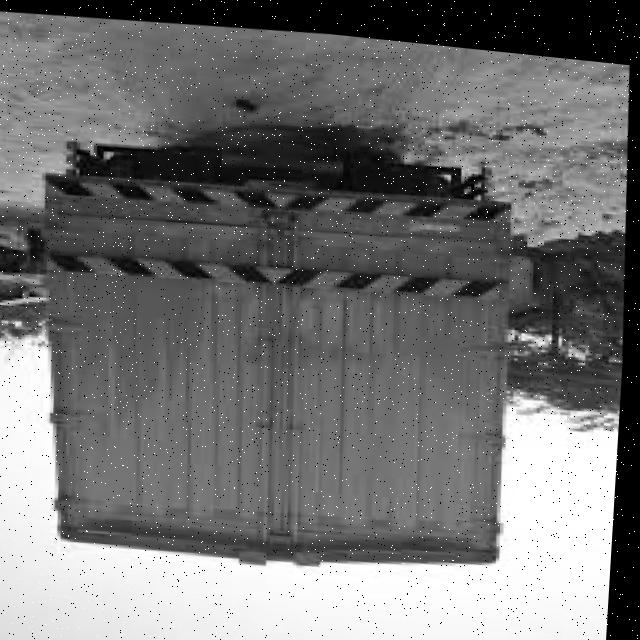truck: (1, 98, 564, 610)
